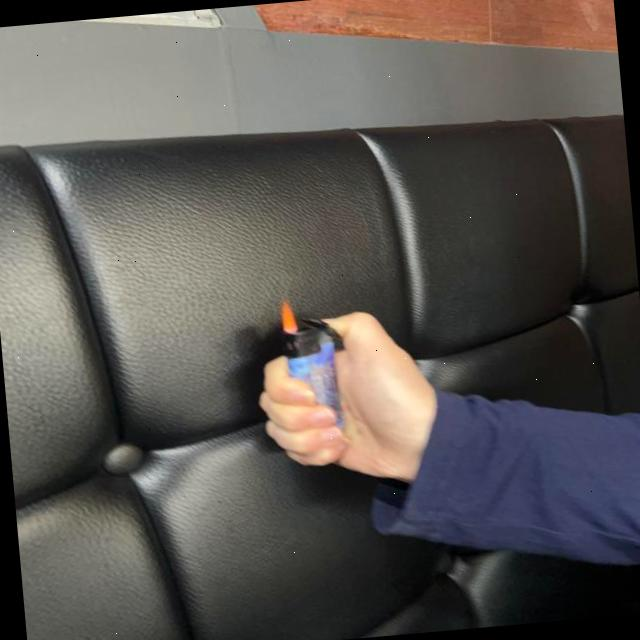fire: (275, 297, 300, 336)
